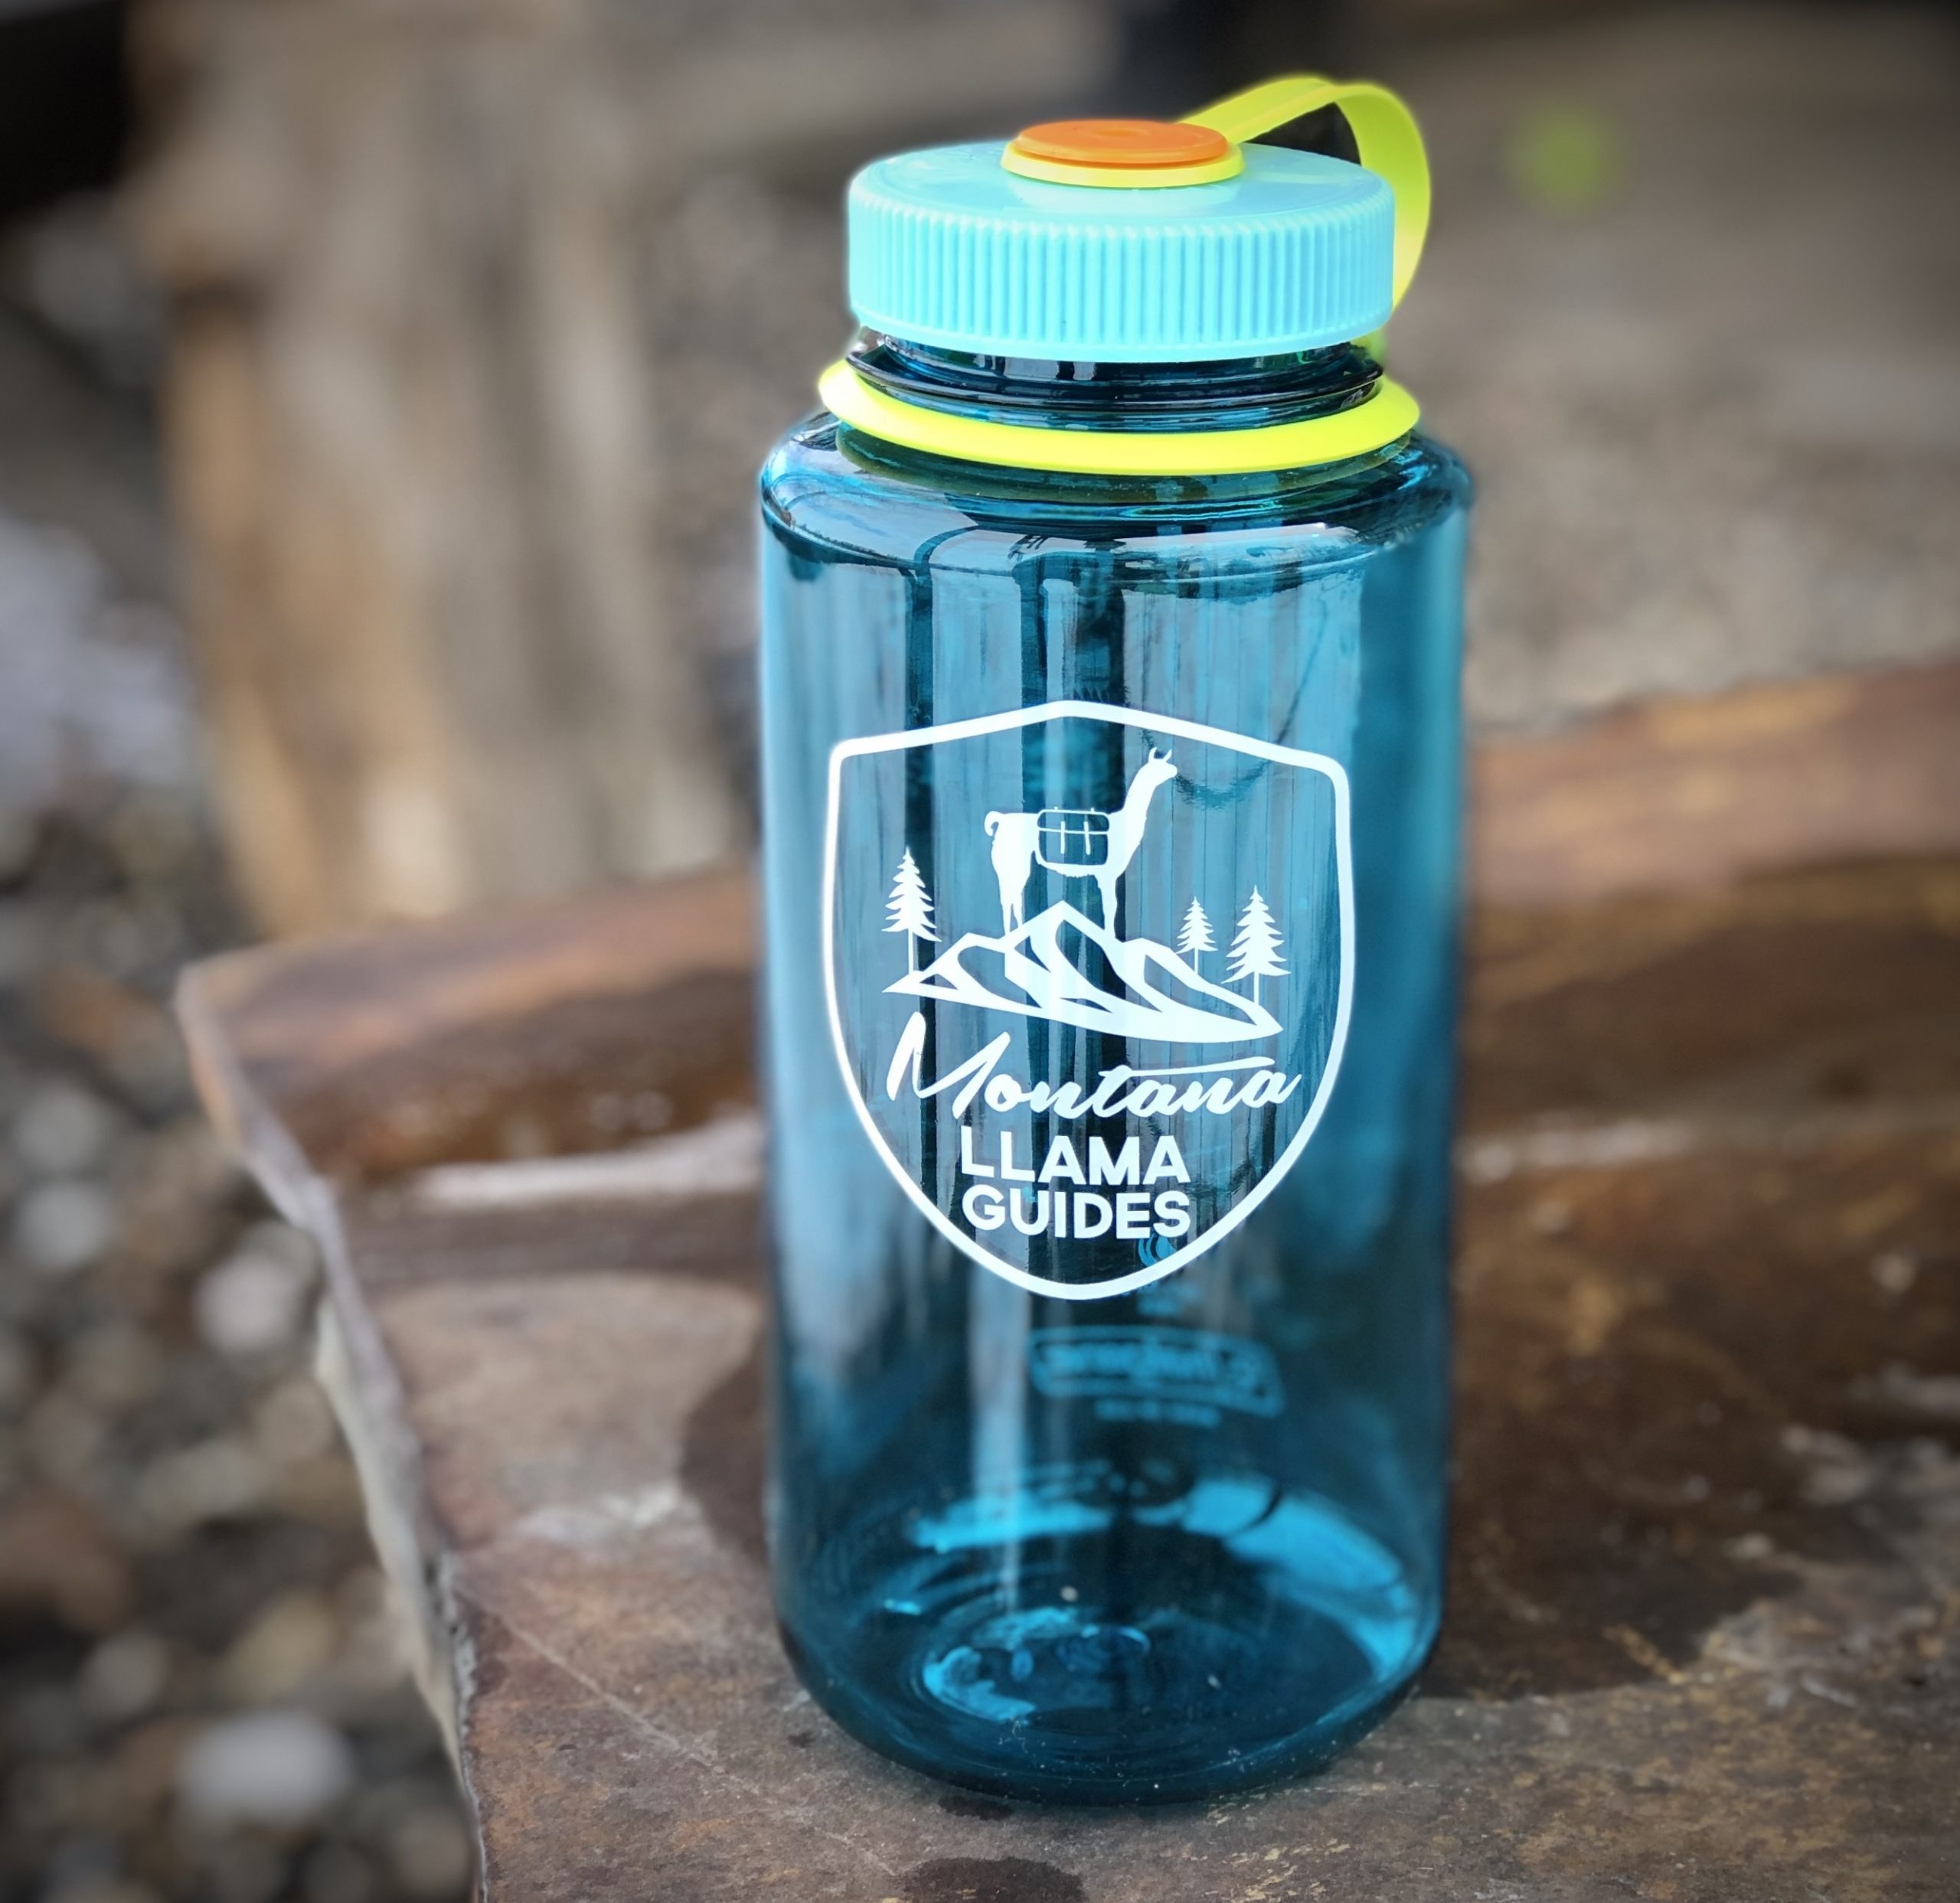bottle: (751, 77, 1477, 1810)
